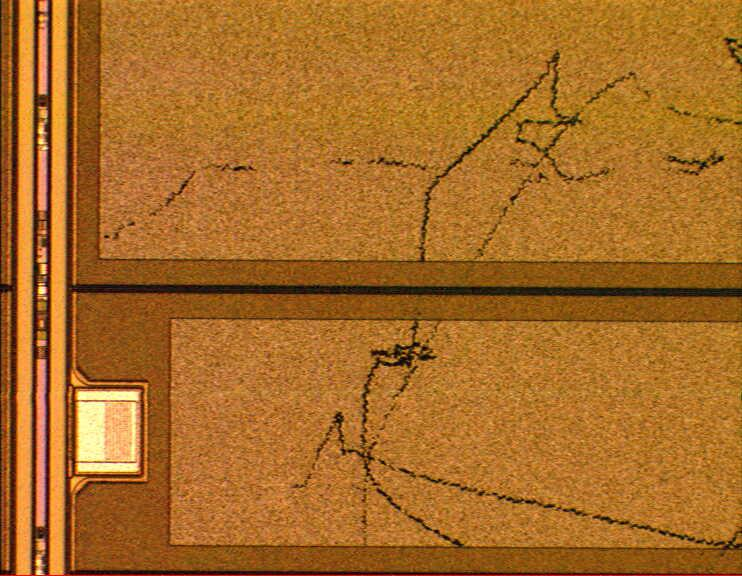SCRATCH: (91, 31, 742, 576)
